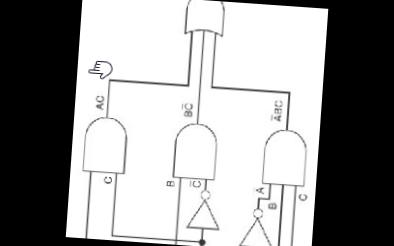and: (166, 118, 226, 182), (258, 121, 312, 188), (78, 114, 134, 178)
not: (183, 187, 225, 232), (234, 205, 276, 246)
or: (177, 0, 230, 41)
